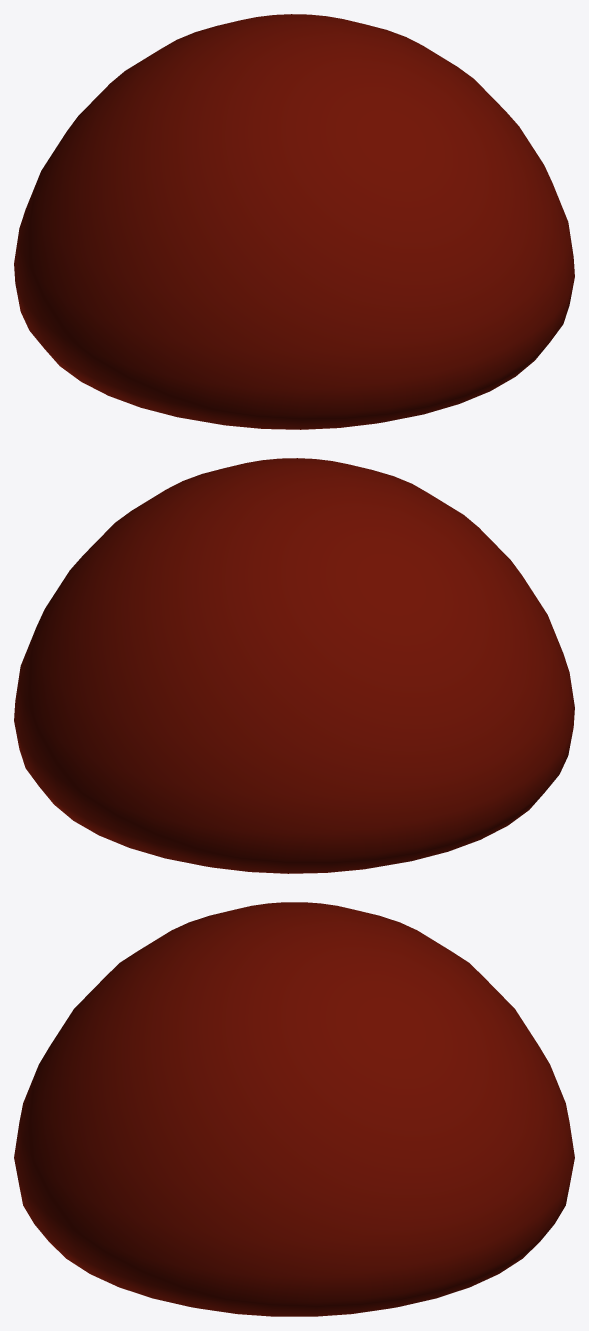
The model's file is EnemySlime.fbx.
3 renders of one model, top to bottom at view 1: azimuth 30°, elevation 25°; view 2: azimuth 150°, elevation 25°; view 3: azimuth 270°, elevation 25°, orthographic.
Parts seen in each view (by area): view 1: Sphere.005; view 2: Sphere.005; view 3: Sphere.005.
Boxes of the visible parts, bbox=[...] form: Sphere.005: bbox=[14, 14, 574, 429]; Sphere.005: bbox=[14, 458, 574, 873]; Sphere.005: bbox=[14, 902, 574, 1316].
Size of the model in its own units: 199 by 116 by 200.
